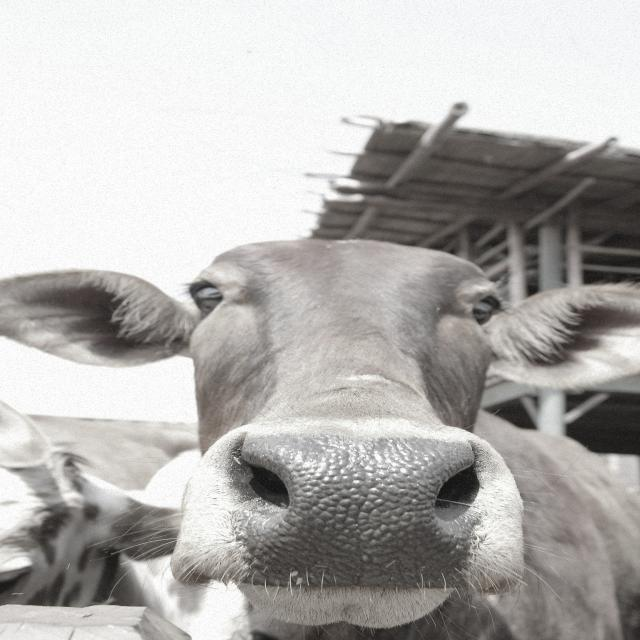muzzles: (224, 423, 492, 594)
